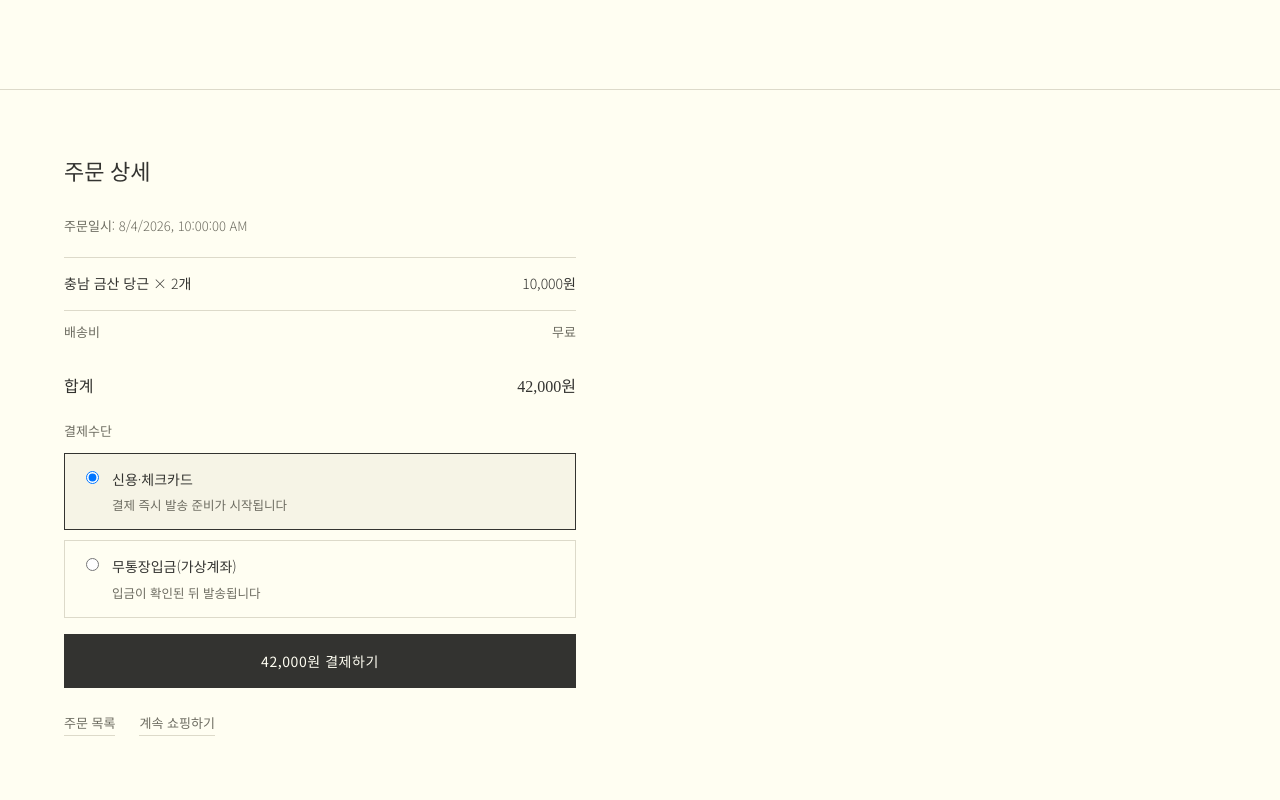
OrderDetailPage — 결제수단 선택 › 가상계좌를 선택하면 버튼 문구가 "입금 계좌 발급받기"로 바뀐다
(page scrolled)
Note: 가상계좌는 이 버튼으로 발급만 되므로, 같은 "결제하기" 문구를 쓰면 착각을 유발한다.
Click the radio button labelled "무통장입금(가상계좌) 입금이 확인된 뒤 발송됩니다" at (92,565), box [86, 558, 99, 571]
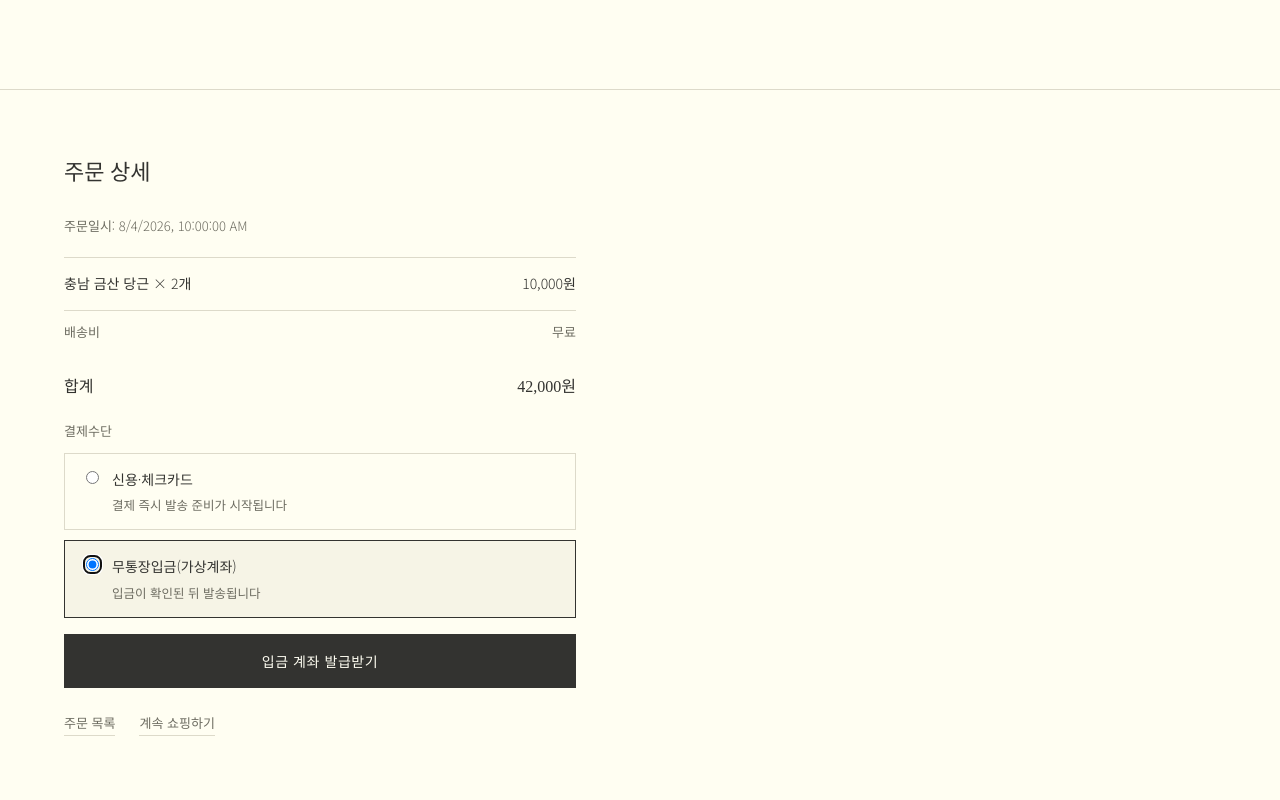
expect the button "입금 계좌 발급받기" is shown: met, box [64, 634, 576, 688]
expect the button "42,000원 결제하기" is gone: met
